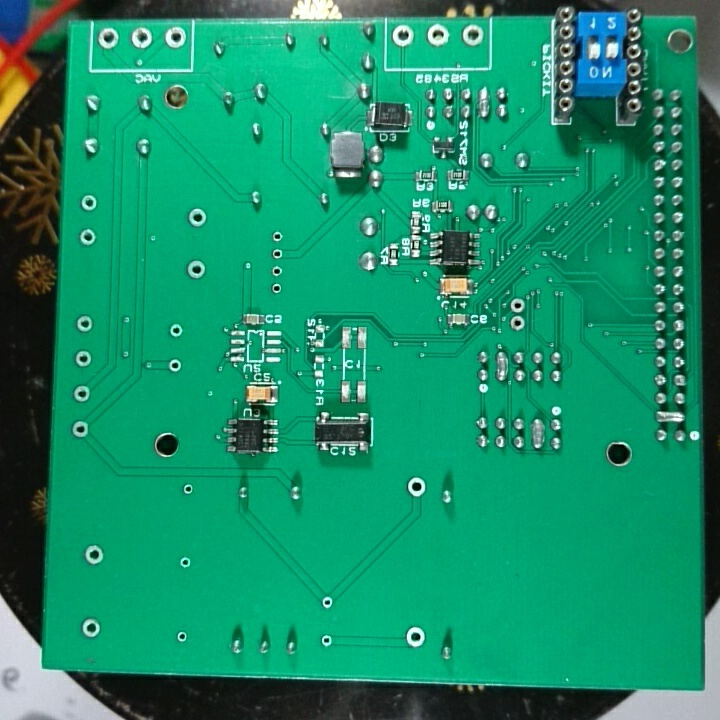F: (401, 622, 429, 654), (128, 24, 156, 53), (424, 20, 452, 47), (81, 541, 107, 569), (69, 379, 93, 409), (390, 23, 417, 49), (161, 25, 187, 52), (96, 24, 121, 52), (79, 614, 104, 642), (459, 22, 486, 47), (405, 472, 427, 501), (186, 206, 211, 229), (73, 311, 95, 337), (185, 260, 210, 282), (73, 346, 95, 371), (68, 419, 93, 440), (77, 226, 99, 249), (79, 193, 101, 215), (508, 314, 527, 337), (508, 293, 527, 315), (167, 320, 185, 340), (167, 355, 184, 375), (176, 552, 193, 572), (319, 593, 336, 612), (317, 632, 335, 648), (270, 278, 284, 298), (269, 262, 285, 279), (173, 629, 190, 645), (270, 227, 285, 245), (181, 480, 196, 498), (270, 245, 285, 261)
P: (653, 407, 688, 428), (475, 84, 493, 122), (528, 415, 545, 452), (495, 349, 510, 383)
